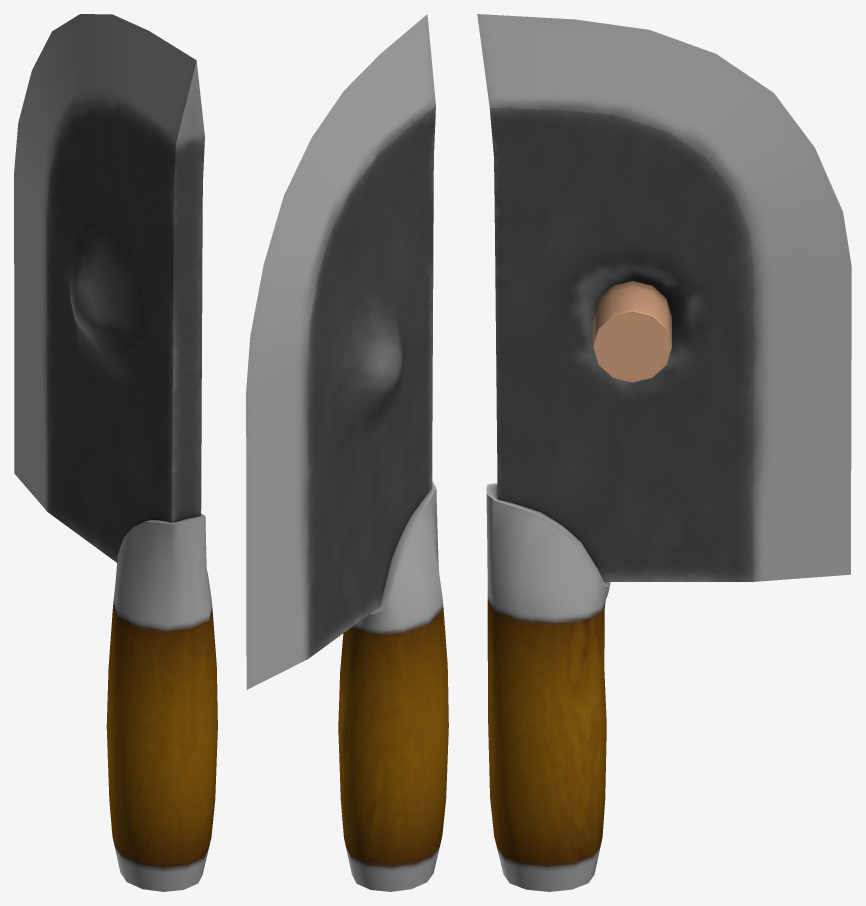
Rendered from MeleeWeaponAgent_ButcherKnife.fbx.
3 renders of one model, left to right at view 1: azimuth 30°, elevation 25°; view 2: azimuth 150°, elevation 25°; view 3: azimuth 270°, elevation 25°, orthographic. The views are drawn at different scales.
Visible parts, largest first — view 1: WPN_ButcherKnife; view 2: WPN_ButcherKnife; view 3: WPN_ButcherKnife.
Part boxes in pixels (x1,y1,x2,y2): WPN_ButcherKnife: (14,14,217,891); WPN_ButcherKnife: (246,14,448,891); WPN_ButcherKnife: (477,14,851,891).
Bounding box in the file's own units: 0.1458 × 1.08 × 0.4274.
